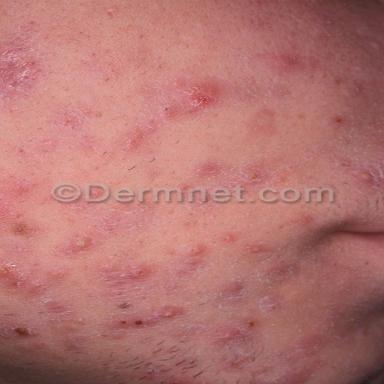acne: (0, 18, 43, 98), (163, 78, 223, 119), (113, 305, 184, 329), (275, 359, 324, 384), (100, 265, 150, 285), (180, 244, 208, 276), (216, 319, 259, 339), (122, 125, 154, 151), (54, 107, 91, 129), (293, 333, 324, 355), (58, 236, 93, 255), (0, 259, 22, 286), (240, 163, 268, 183), (258, 295, 282, 317), (1, 324, 36, 339), (219, 281, 245, 299), (197, 162, 222, 177), (23, 280, 45, 296), (245, 241, 271, 254), (44, 299, 68, 313), (290, 213, 313, 227), (272, 55, 290, 72), (353, 169, 372, 182), (50, 269, 71, 279), (13, 222, 29, 235), (327, 116, 343, 127), (222, 233, 237, 244), (338, 158, 350, 167), (266, 109, 274, 119)
